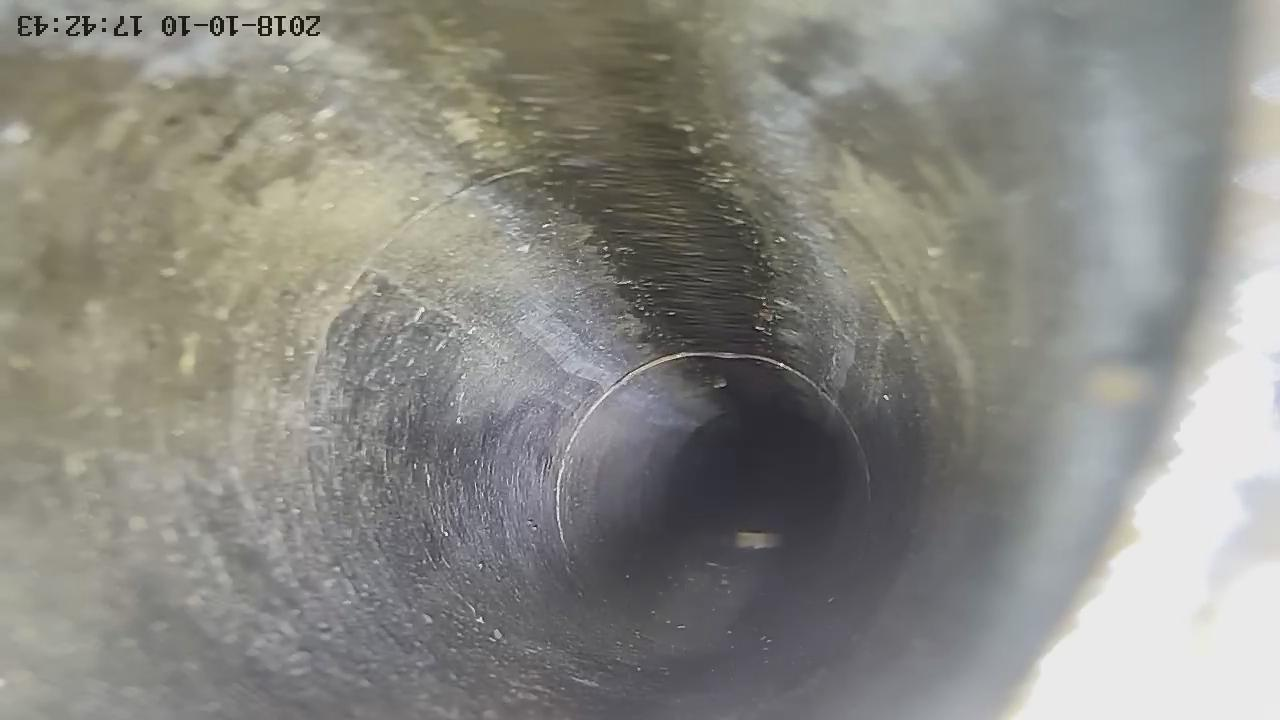CKTJ: (553, 351, 871, 542)
ZGAJ: (736, 532, 779, 549)
